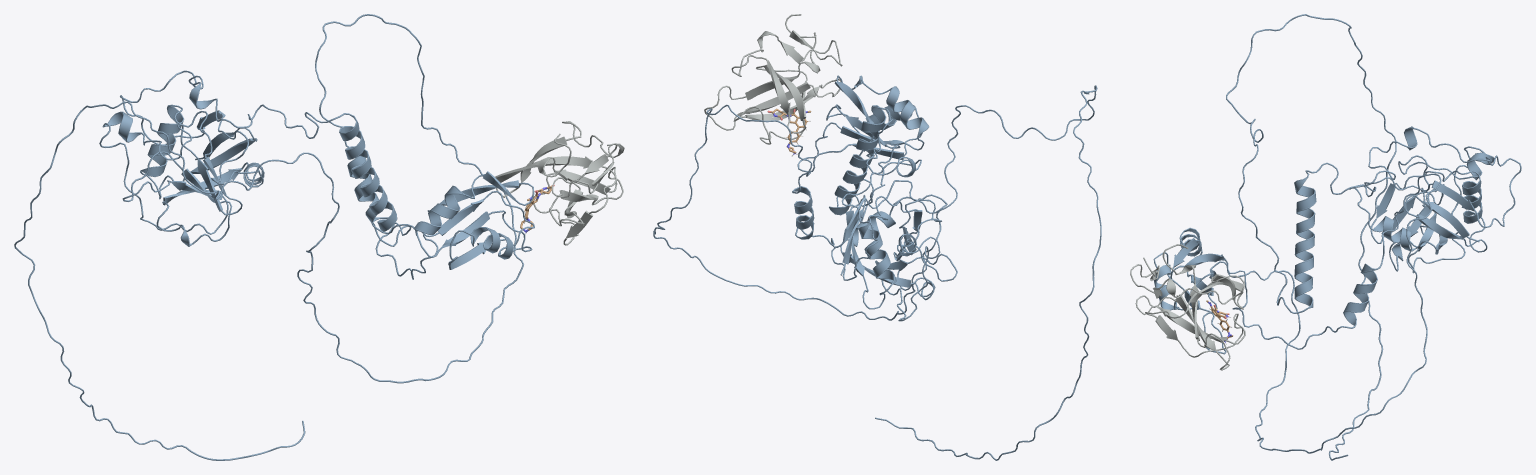
The picture shows the model from 3 angles, left to right: view 1: azimuth 30°, elevation 25°; view 2: azimuth 150°, elevation 25°; view 3: azimuth 270°, elevation 25°; orthographic projection. The views are drawn at different scales.
Parts seen in each view (by area): view 1: node-geom71, node-geom72; view 2: node-geom71, node-geom72; view 3: node-geom71, node-geom72.
Part boxes in pixels (<box>): node-geom71: <box>99,70,624,246</box>; node-geom72: <box>14,14,534,460</box>; node-geom71: <box>704,14,957,321</box>; node-geom72: <box>653,75,1101,460</box>; node-geom71: <box>1130,126,1521,370</box>; node-geom72: <box>1153,14,1441,460</box>.
Size of the model in its own units: 139 by 105 by 100.
